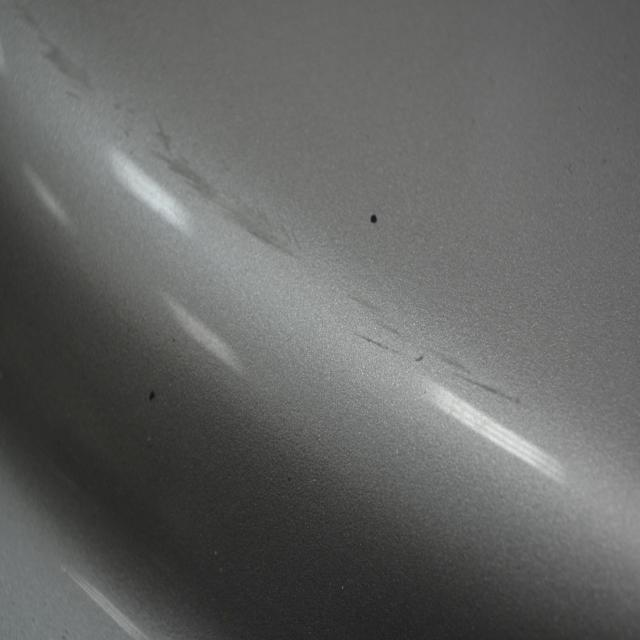dirt: (367, 211, 378, 227), (146, 387, 157, 401)
scratch: (350, 284, 531, 409)
water marks: (142, 111, 307, 268), (22, 15, 108, 116)
